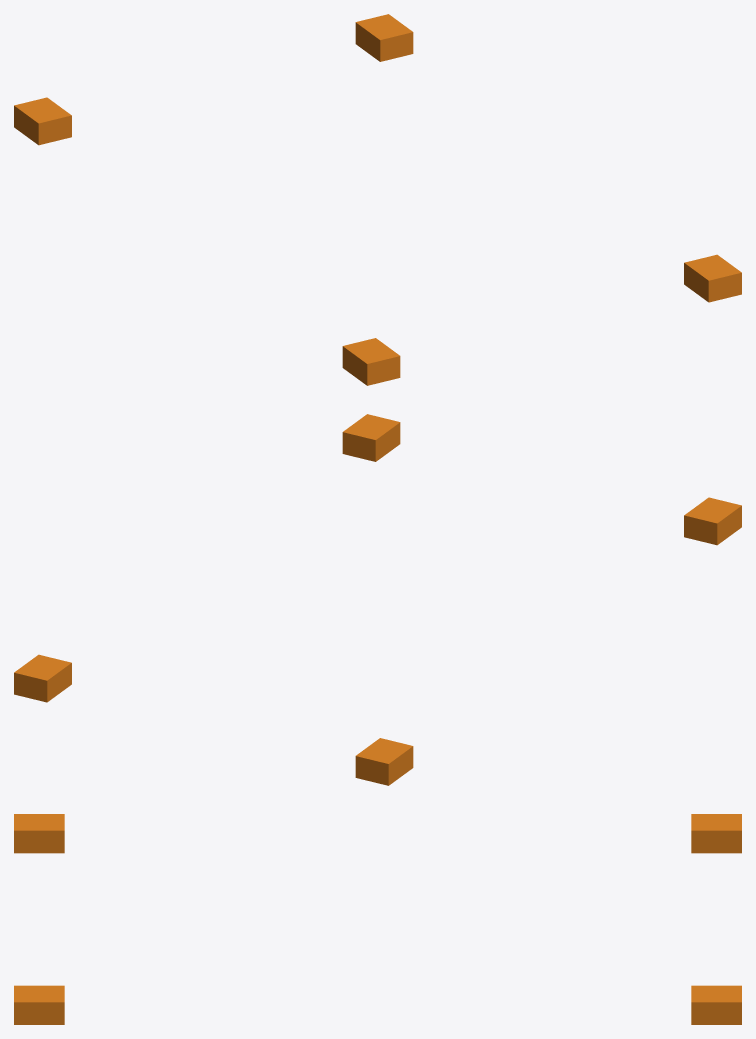
Rendered from bunk500_mounts.obj.
The picture shows the model from 3 angles, top to bottom: view 1: azimuth 30°, elevation 25°; view 2: azimuth 150°, elevation 25°; view 3: azimuth 270°, elevation 25°; orthographic projection. The views are drawn at different scales.
Parts seen in each view (by area): view 1: bunk500_mounts; view 2: bunk500_mounts; view 3: bunk500_mounts.
Boxes of the visible parts, x1,y1,x2,y2 form: bunk500_mounts: [14, 14, 741, 385]; bunk500_mounts: [14, 414, 741, 785]; bunk500_mounts: [14, 814, 741, 1024].
Size of the model in its own units: 7.9 by 0.44 by 12.9.
